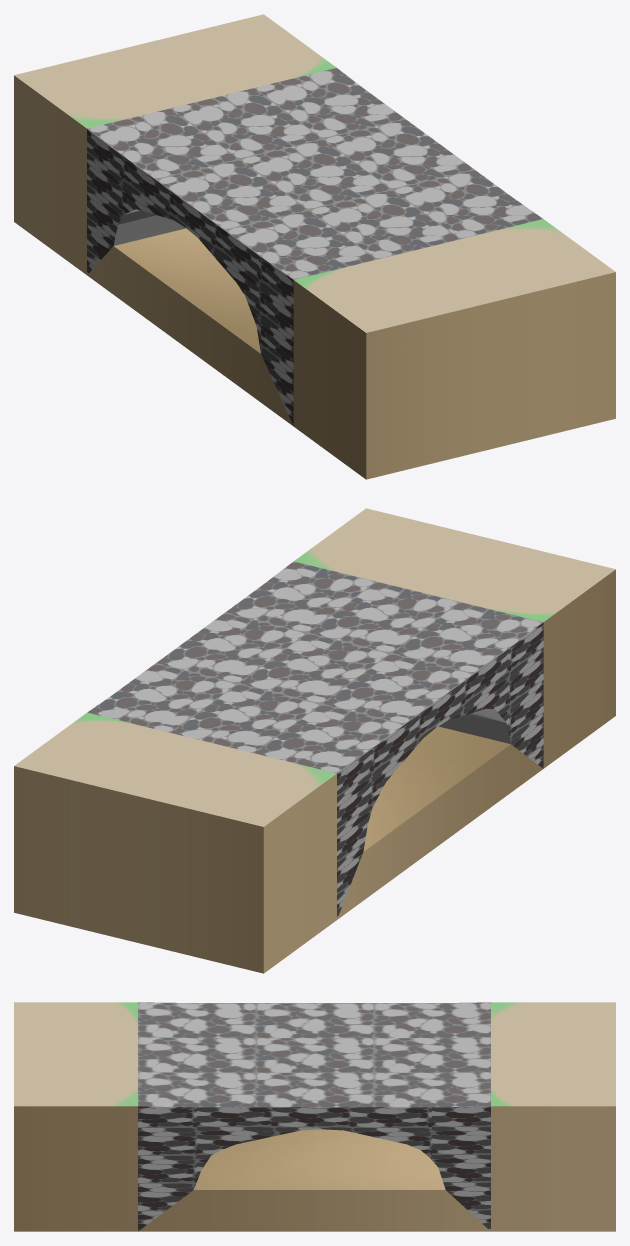
File: ground_center2.fbx
The picture shows the model from 3 angles, top to bottom: view 1: azimuth 30°, elevation 25°; view 2: azimuth 150°, elevation 25°; view 3: azimuth 270°, elevation 25°; orthographic projection. The views are drawn at different scales.
Visible parts, largest first — view 1: base1; view 2: base1; view 3: base1.
Part boxes in pixels (x1,y1,x2,y2): base1: [14, 14, 615, 479]; base1: [14, 508, 615, 973]; base1: [14, 1002, 615, 1231].
Bounding box in the file's own units: 5.77 × 3.24 × 14.08.
5 materials, 4 textured.
